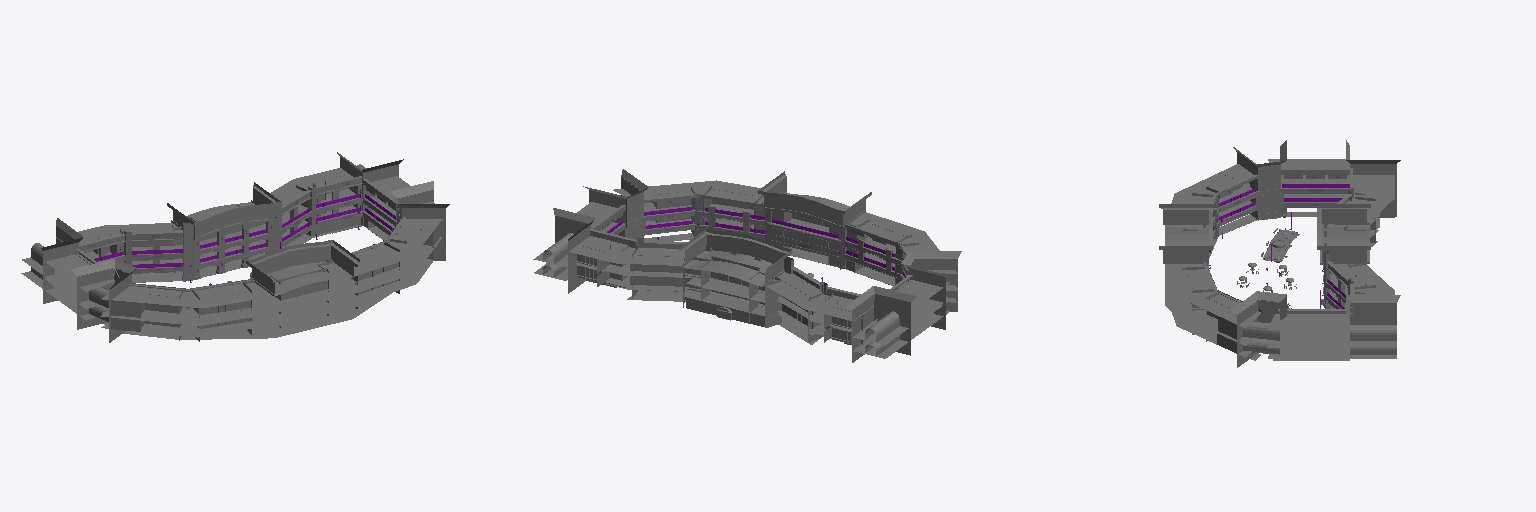
3 views of the same model, side by side, from view 1: azimuth 30°, elevation 25°; view 2: azimuth 150°, elevation 25°; view 3: azimuth 270°, elevation 25° (orthographic).
Parts seen in each view (by area): view 1: Outlet3, Outlet1, Outlet2, Outlet4, Shop02, Fence001, Shop01, Fence002; view 2: Outlet1, Outlet3, Outlet2, Outlet4, Shop01, Fence003, Shop02; view 3: Outlet3, Outlet4, Outlet1, Outlet2, Fence002.
Boxes of the visible parts, <box> form: Outlet3: <box>100,217,442,341</box>; Outlet1: <box>56,168,362,282</box>; Outlet2: <box>21,218,136,342</box>; Outlet4: <box>337,152,449,260</box>; Shop02: <box>145,232,410,328</box>; Fence001: <box>132,208,310,267</box>; Shop01: <box>82,175,361,260</box>; Fence002: <box>94,194,395,261</box>; Outlet1: <box>569,229,874,344</box>; Outlet3: <box>613,171,957,302</box>; Outlet2: <box>846,251,961,362</box>; Outlet4: <box>533,169,648,293</box>; Shop01: <box>577,246,863,344</box>; Fence003: <box>705,208,895,270</box>; Shop02: <box>657,189,910,247</box>; Outlet3: <box>1159,164,1261,360</box>; Outlet4: <box>1231,291,1400,367</box>; Outlet1: <box>1317,168,1394,313</box>; Outlet2: <box>1233,140,1400,220</box>; Fence002: <box>1219,184,1349,220</box>.
Bounding box in the file's own units: 5117 × 926 × 2948.